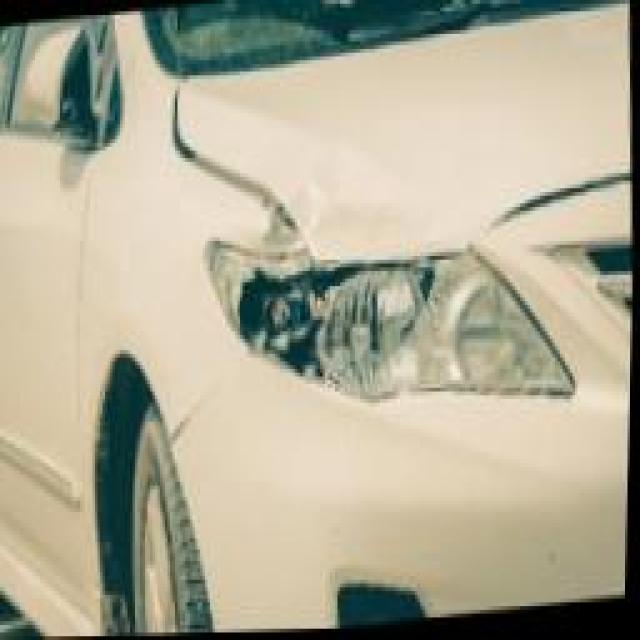Bonnet: (165, 23, 638, 298)
Light: (200, 207, 587, 447)
